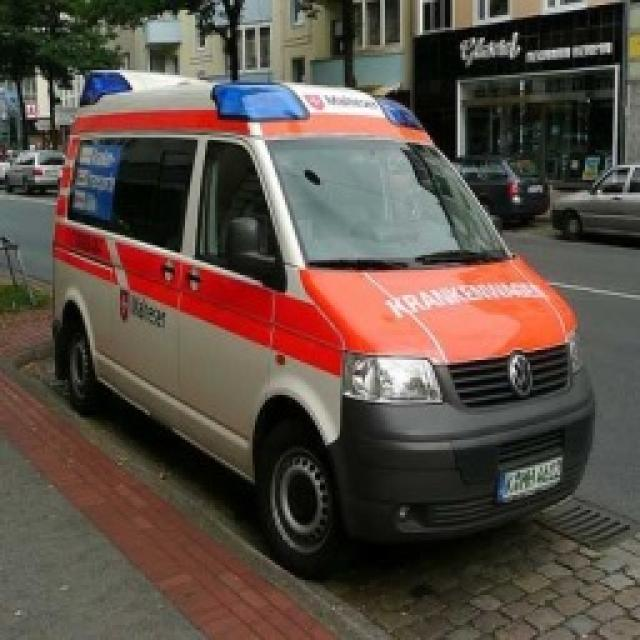ambulance: (52, 65, 600, 565), (550, 160, 640, 238)
